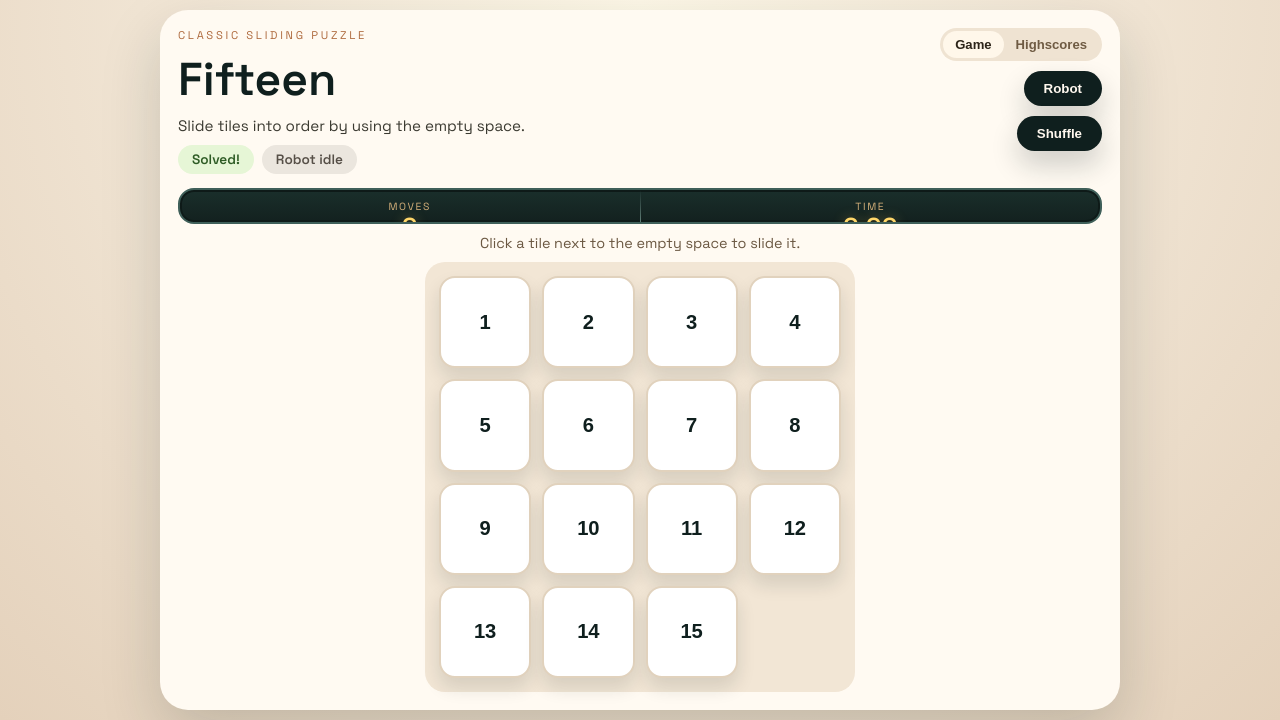
Test case: App fireworks › shows fireworks after solving the puzzle
Click the button "15": x=692, y=632 [646, 586, 738, 678]
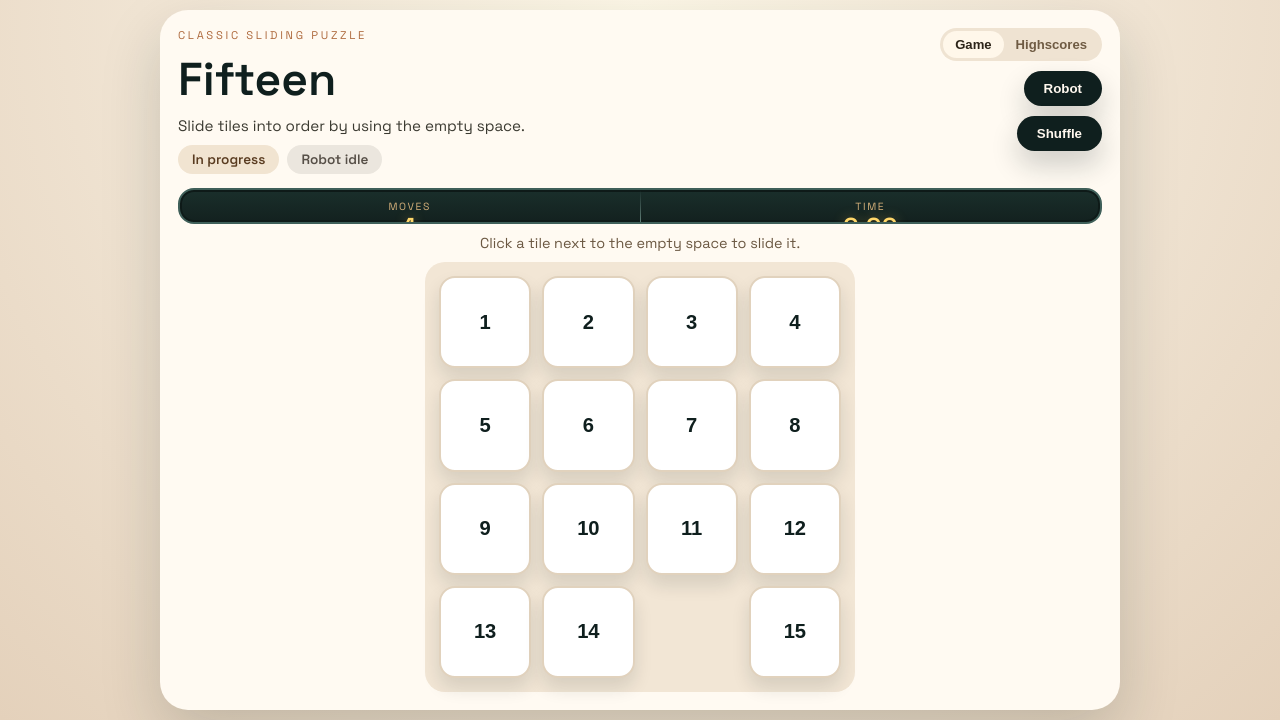
Click the button "15": x=795, y=632 [749, 586, 841, 678]
Wait 1300 ms
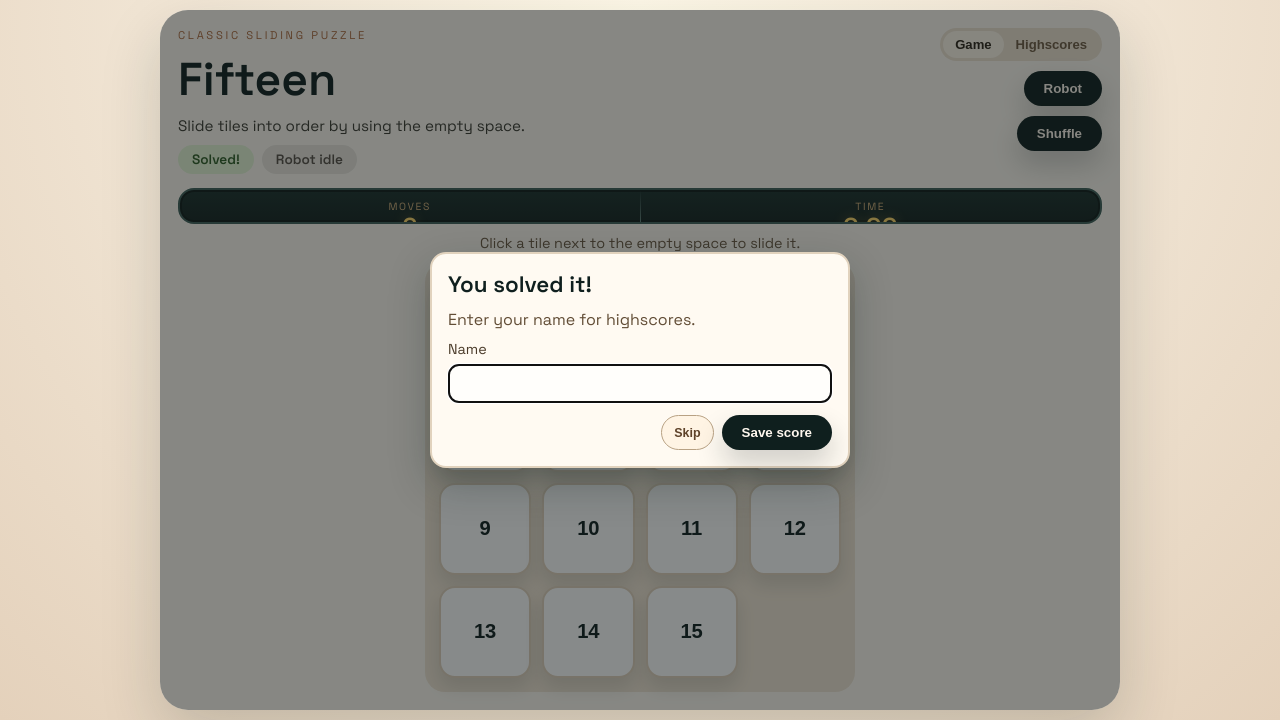
expect the dialog is shown: met, box [430, 252, 850, 468]
In the field labelled "Name": x=640, y=384 [448, 364, 832, 403], type "Player"
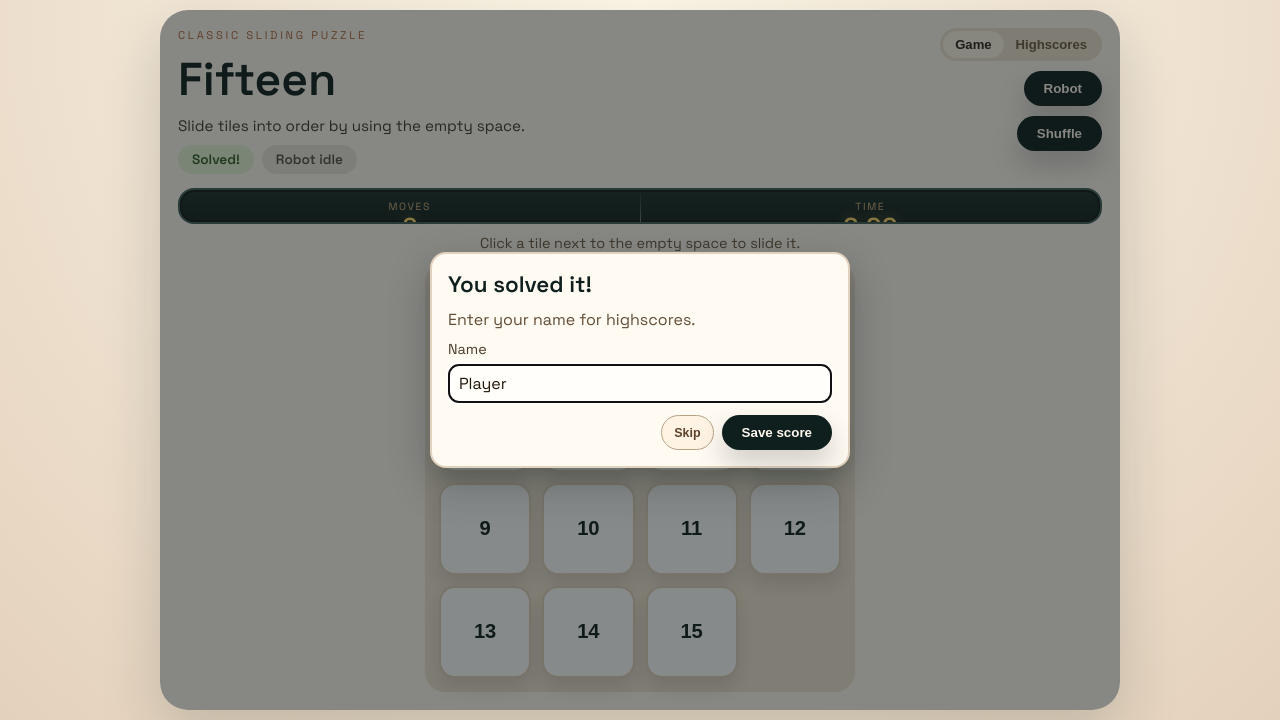
Click the button "Save score": x=777, y=432 [722, 415, 832, 450]
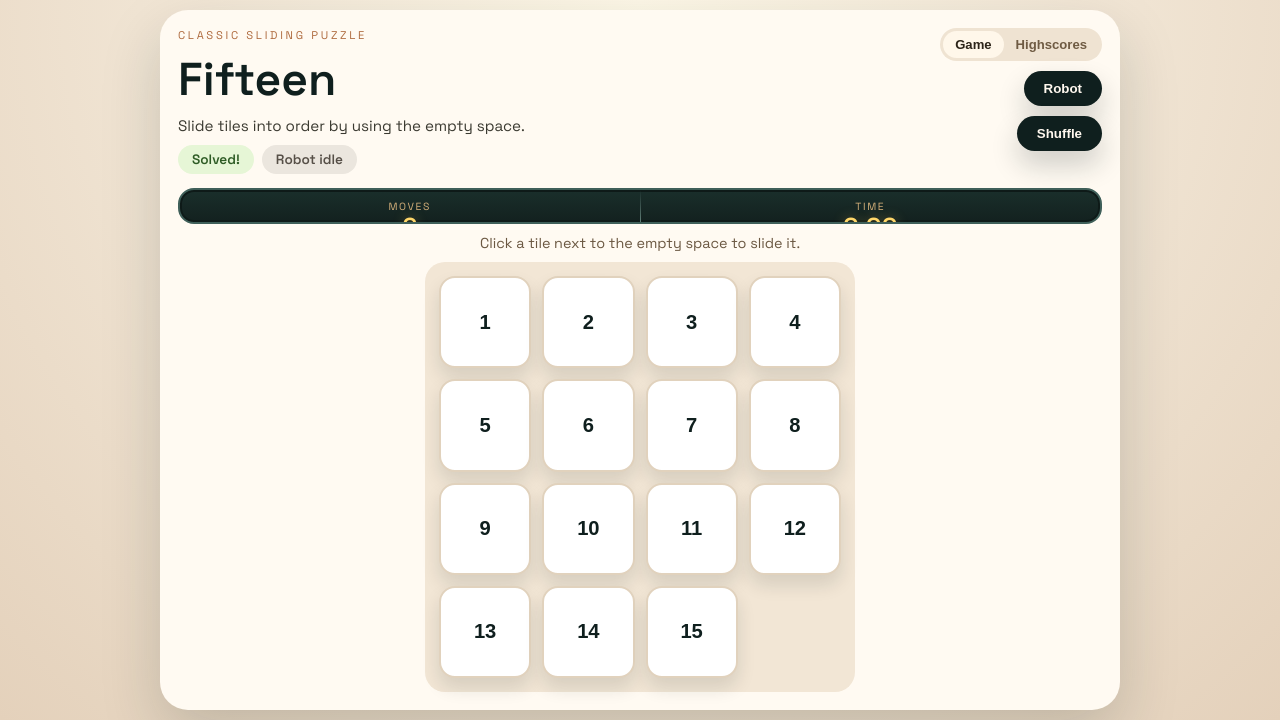
expect the element with test id "fireworks" is shown: met
Click the tab "Highscores": x=1051, y=44 [1004, 31, 1099, 58]
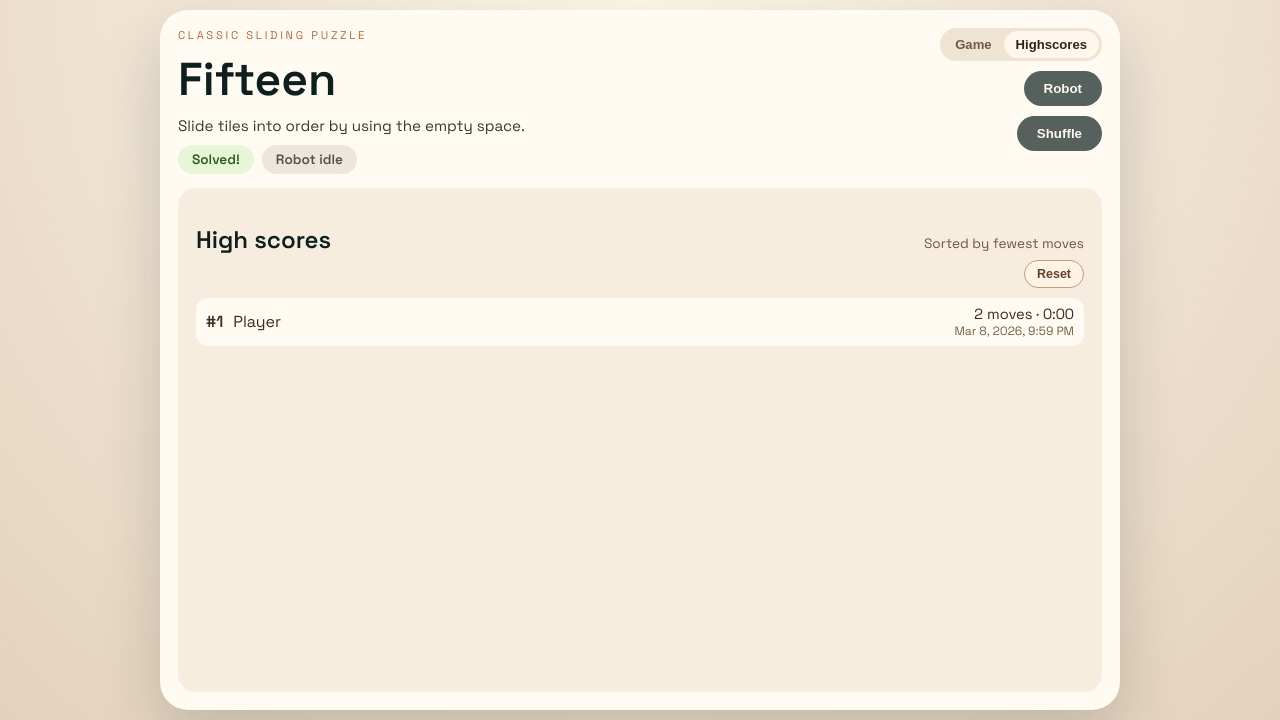
expect the text "Player" is shown: met, box [233, 311, 281, 332]
expect the text "2 moves · 0:00" is shown: met, box [974, 306, 1074, 324]
